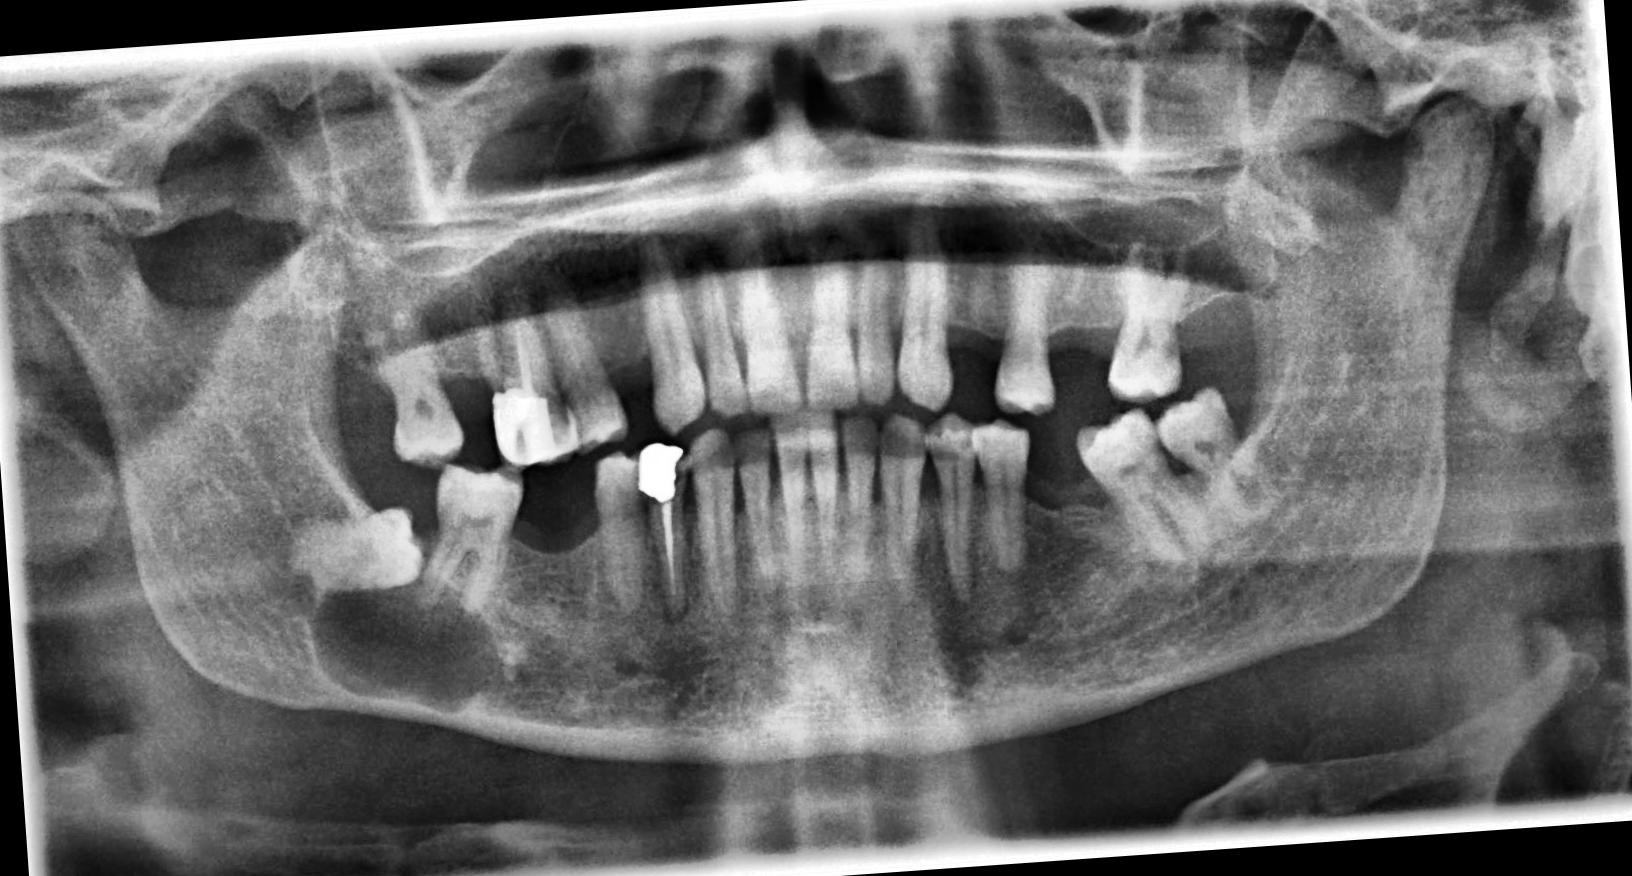okc: (303, 562, 504, 725)
